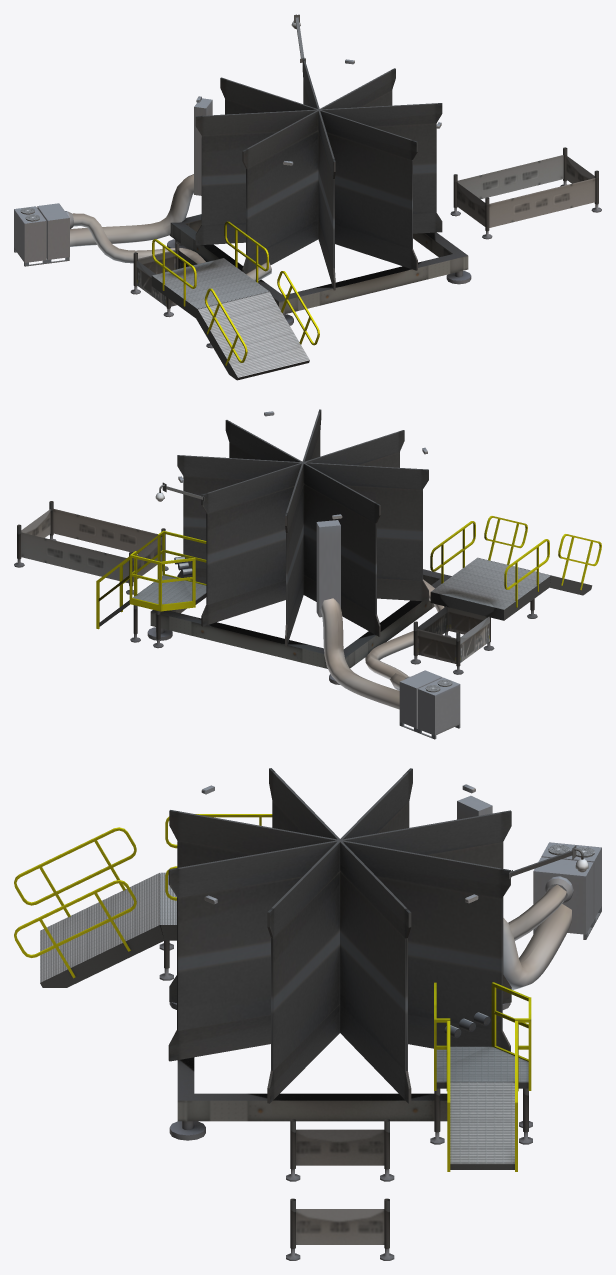
The model's file is habitat_dem1.glb.
3 renders of one model, top to bottom at view 1: azimuth 30°, elevation 25°; view 2: azimuth 150°, elevation 25°; view 3: azimuth 270°, elevation 25°, orthographic. The views are drawn at different scales.
Parts seen in each view (by area): view 1: HDU_lowRez_part2; view 2: HDU_lowRez_part2; view 3: HDU_lowRez_part2.
Boxes of the visible parts, x1,y1,x2,y2 form: HDU_lowRez_part2: (14, 14, 601, 380); HDU_lowRez_part2: (14, 409, 601, 739); HDU_lowRez_part2: (14, 768, 601, 1260).
Bounding box in the file's own units: 656 × 226 × 459.
Materials: 1 (1 with a texture image).
